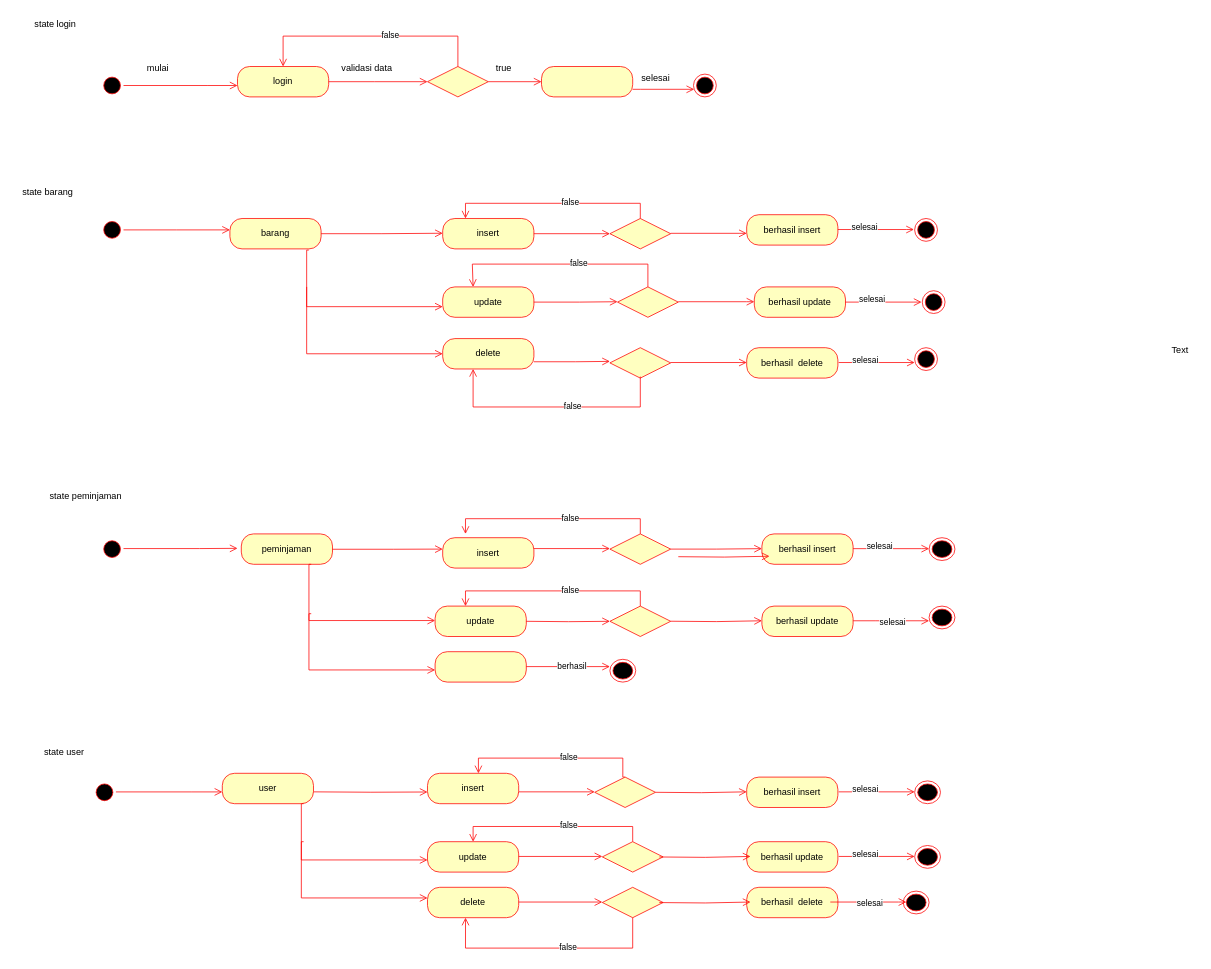
This 1211x969 diagram has some shape labels left out. Each missing label, with the box of its shape:
dasbord: (541, 66, 633, 97)
laporan: (434, 651, 526, 682)
